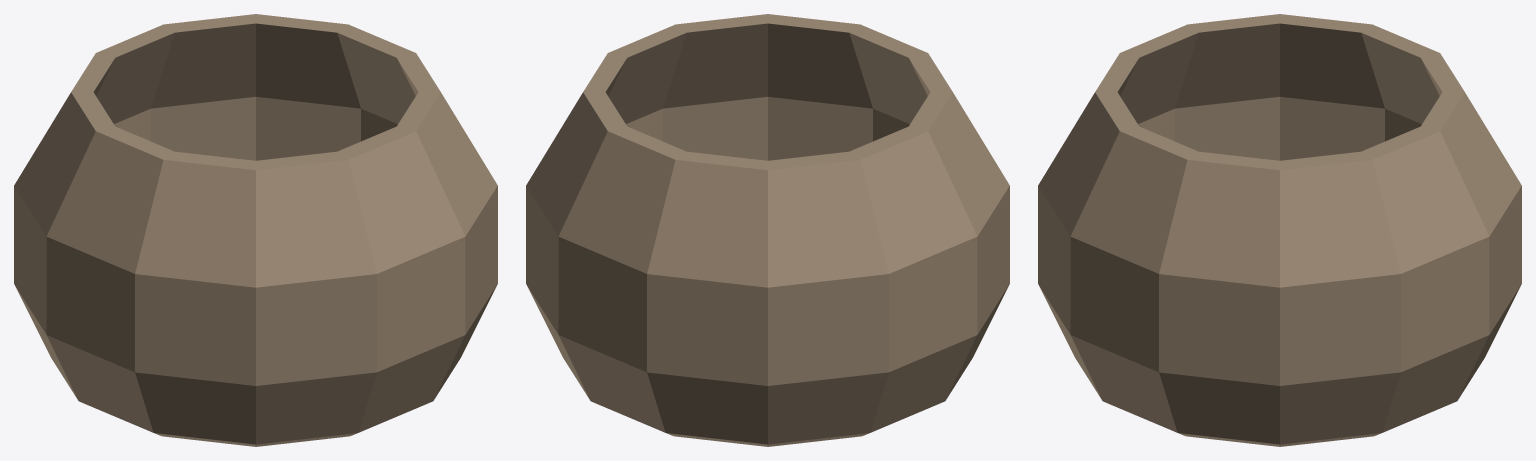
Rendered from Pot_3.fbx.
3 views of the same model, side by side, from view 1: azimuth 30°, elevation 25°; view 2: azimuth 150°, elevation 25°; view 3: azimuth 270°, elevation 25° (orthographic).
Parts seen in each view (by area): view 1: Pot_3; view 2: Pot_3; view 3: Pot_3.
Boxes of the visible parts, box(x1,y1,x2,y2) form: Pot_3: box(14, 14, 497, 446); Pot_3: box(526, 14, 1009, 446); Pot_3: box(1038, 14, 1521, 446).
Bounding box in the file's own units: 53.35 × 33.48 × 53.35.
